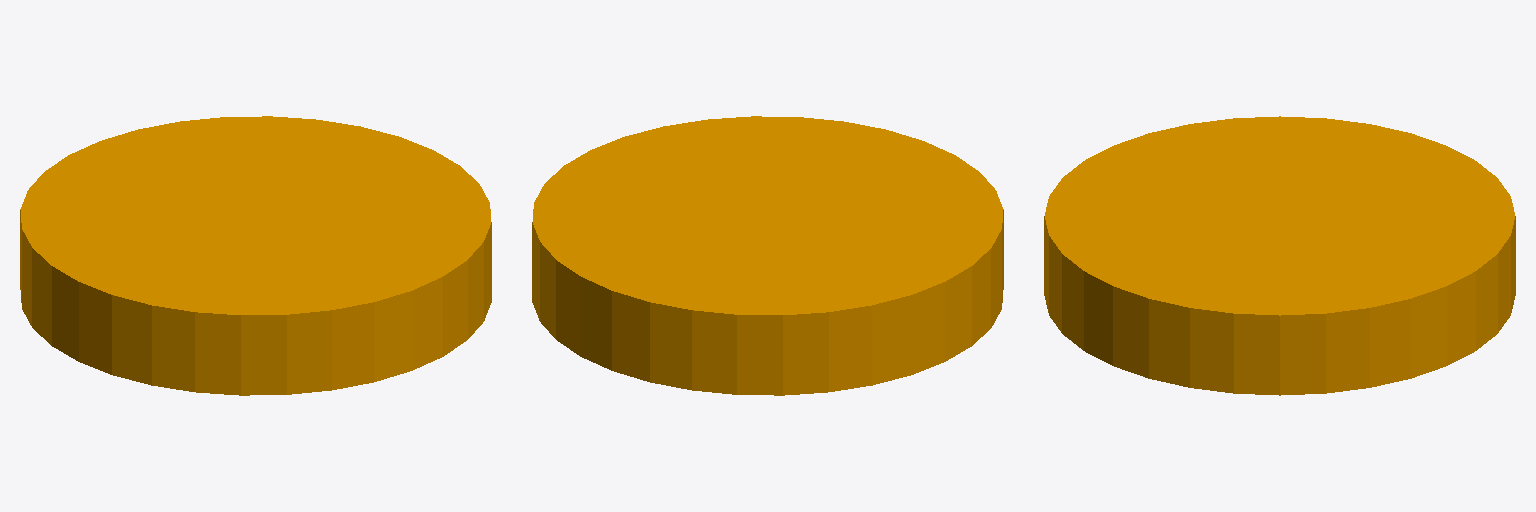
The robot description file, URDF, robot "3v2_test_hand_cylinder_medium":
<?xml version="1.0" ?>
<robot name="3v2_test_hand_cylinder_medium">

    <link name="3v2_test_hand_cylinder_medium">
        <visual>
            <origin rpy="1.5707963267948966 0 0" xyz="0 0 0"/>
            <geometry>
                <mesh filename="obj_files/3v2_test_hand_cylinder_medium.obj" scale="1 1 1"/>
            </geometry>
        </visual>
        <collision>
            <geometry>
                <mesh filename="obj_files/3v2_test_hand_cylinder_medium_collision.obj" scale="1 1 1"/>
            </geometry>
        </collision>
    </link>

</robot>

--- Facts derived from the render (not from the file) ---
3 views of the same robot in one strip: view 1: azimuth 30°, elevation 25°; view 2: azimuth 150°, elevation 25°; view 3: azimuth 270°, elevation 25° (orthographic).
Model 3v2_test_hand_cylinder_medium with 1 links and 0 joints (none), rooted at 3v2_test_hand_cylinder_medium, posed all joints at 0.
Visible links, largest first — view 1: 3v2_test_hand_cylinder_medium; view 2: 3v2_test_hand_cylinder_medium; view 3: 3v2_test_hand_cylinder_medium.
Boxes of the visible links, x1,y1,x2,y2 form: 3v2_test_hand_cylinder_medium: (20,116,491,395); 3v2_test_hand_cylinder_medium: (532,116,1003,395); 3v2_test_hand_cylinder_medium: (1044,116,1515,395).
Size in the robot's own frame: 0.3201 by 0.3201 by 0.06 metres.
Meshes: 1 distinct files referenced, 1 mesh visuals loaded (1 OBJ).